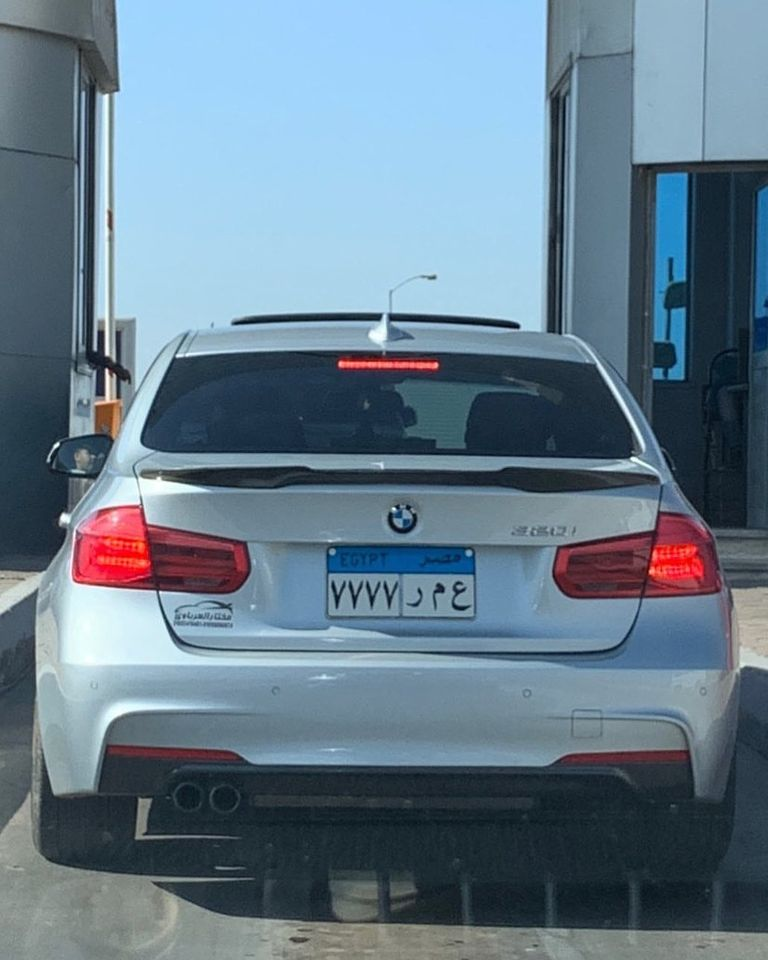carpl: (327, 569, 478, 615)
